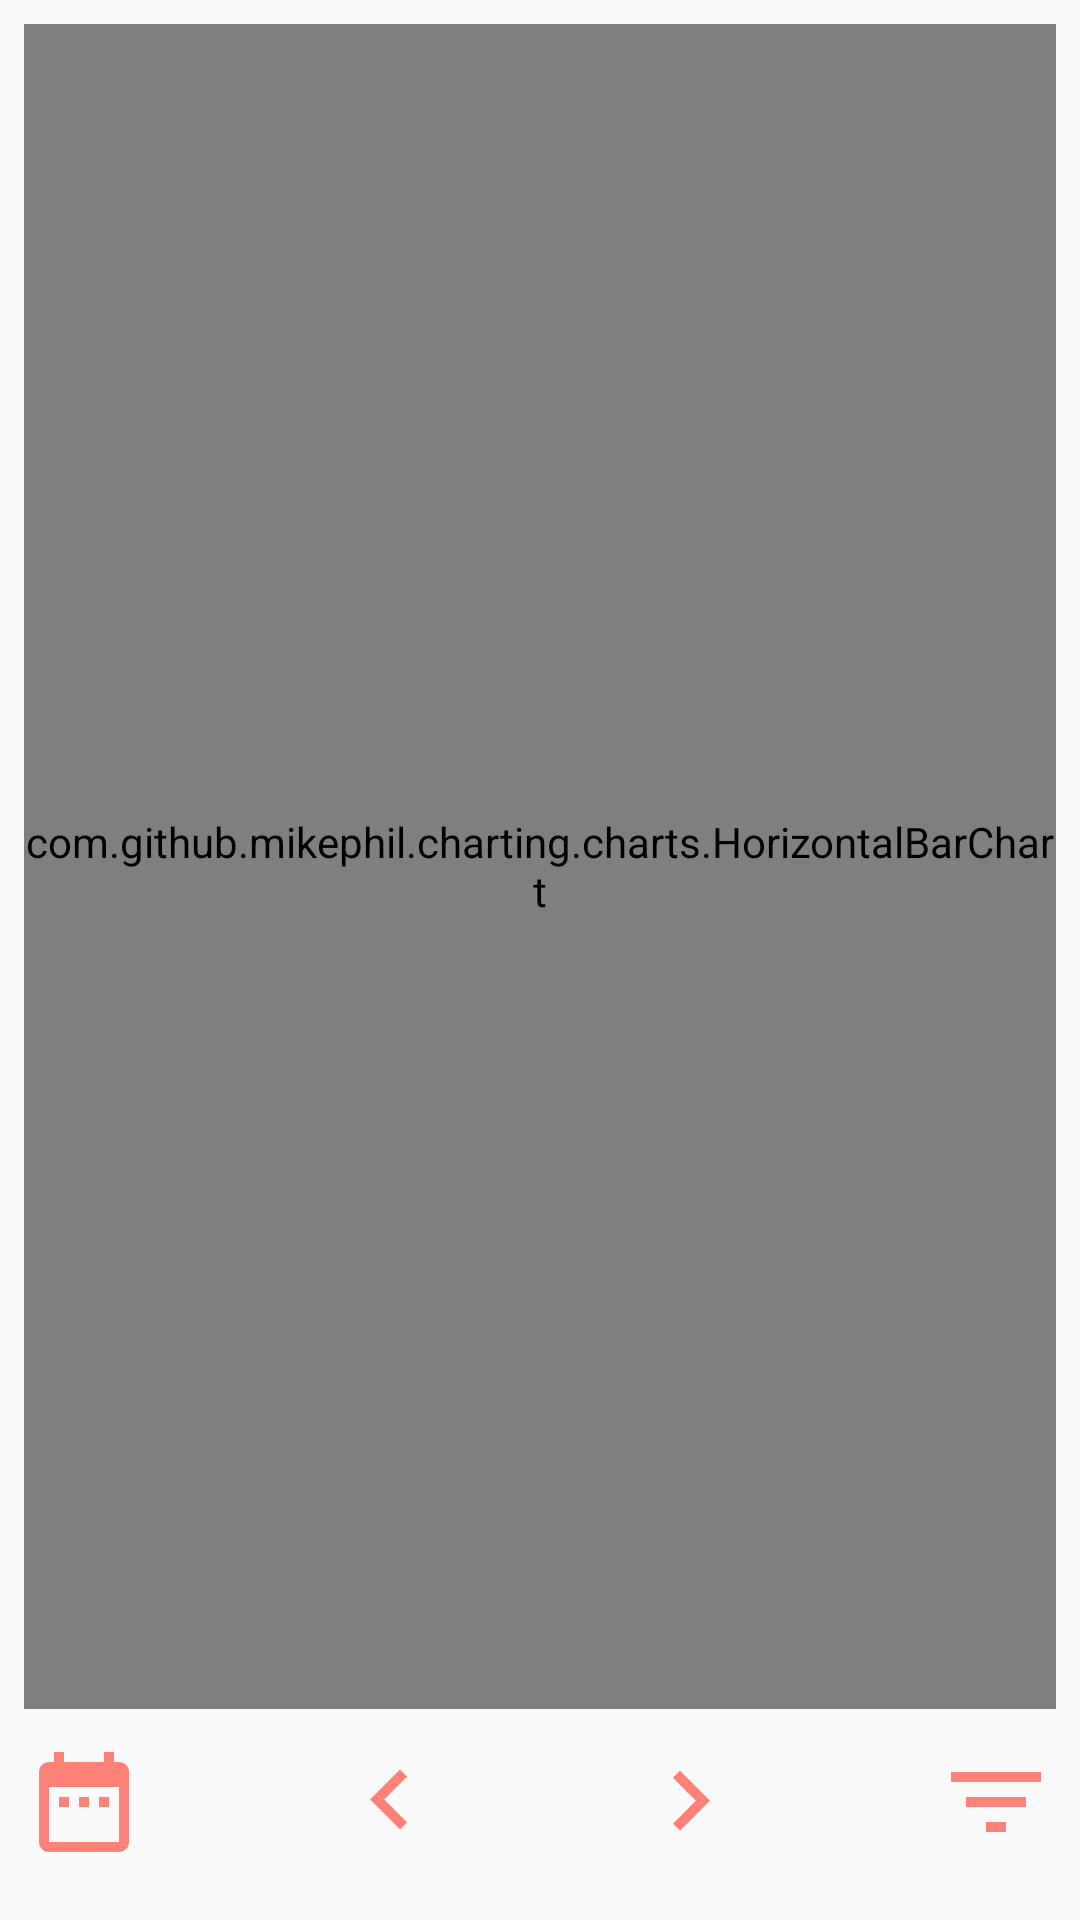

Icons on this 1080*1920 Android screen, each with the point to tap as [x,y]:
calendar: [84,1802]
filter: [996,1802]
left: [388,1799]
right: [691,1800]
